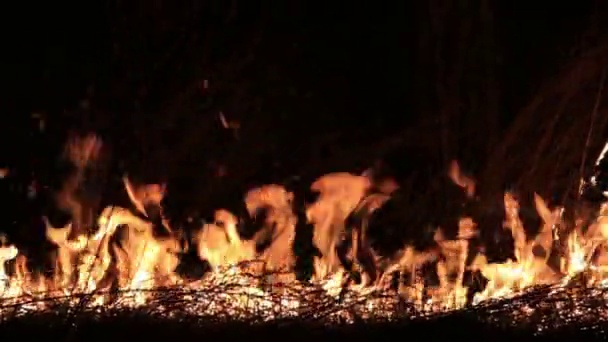fire: (190, 182, 297, 315), (305, 171, 394, 316), (54, 209, 179, 306), (473, 191, 557, 304), (428, 218, 471, 310), (570, 200, 608, 290), (1, 240, 44, 310)
